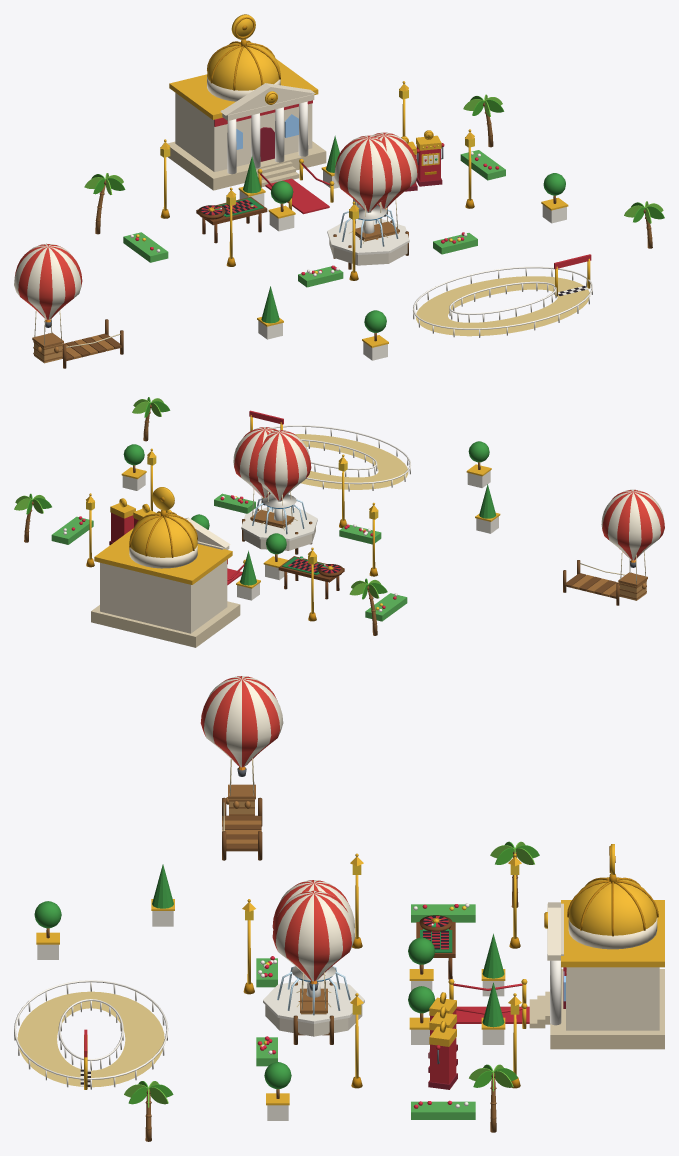
File: casino-jeu.glb
3 views of the same model, one above another, from view 1: azimuth 30°, elevation 25°; view 2: azimuth 150°, elevation 25°; view 3: azimuth 270°, elevation 25° (orthographic). The views are drawn at different scales.
Visible parts, largest first — view 1: piste, mur, ballon.002, ballon.001, coupole, soubassement, corniche, ballon, margelle, fronton.001, barriere.001, bassin (+9 smaller); view 2: mur, ballon.002, piste, ballon.001, corniche, soubassement, coupole, ballon, margelle, tambour, buis.003, buis.002 (+7 smaller); view 3: piste, mur, ballon.002, ballon, coupole, corniche, soubassement, margelle, tambour, buis.003, bassin, barriere.001 (+6 smaller).
Boxes of the visible parts, bbox=[...] form: piste: bbox=[415, 276, 590, 336]; mur: bbox=[175, 93, 312, 171]; ballon.002: bbox=[14, 243, 82, 319]; ballon.001: bbox=[334, 135, 392, 211]; coupole: bbox=[207, 42, 280, 90]; soubassement: bbox=[167, 141, 326, 190]; corniche: bbox=[169, 59, 318, 119]; ballon: bbox=[372, 132, 418, 208]; margelle: bbox=[327, 219, 409, 254]; fronton.001: bbox=[220, 83, 315, 115]; barriere.001: bbox=[413, 266, 592, 329]; bassin: bbox=[329, 240, 407, 265]; mur: bbox=[100, 560, 227, 633]; ballon.002: bbox=[601, 489, 664, 560]; piste: bbox=[294, 434, 408, 489]; ballon.001: bbox=[257, 430, 311, 500]; corniche: bbox=[94, 528, 232, 584]; soubassement: bbox=[91, 601, 240, 647]; coupole: bbox=[129, 512, 197, 557]; ballon: bbox=[233, 427, 276, 497]; margelle: bbox=[241, 507, 317, 540]; tambour: bbox=[129, 545, 197, 568]; buis.003: bbox=[51, 516, 93, 544]; buis.002: bbox=[365, 593, 407, 621]; piste: bbox=[17, 991, 164, 1087]; mur: bbox=[566, 967, 659, 1030]; ballon.002: bbox=[200, 676, 283, 767]; ballon: bbox=[272, 890, 355, 981]; coupole: bbox=[568, 877, 656, 935]; corniche: bbox=[561, 900, 664, 967]; soubassement: bbox=[550, 969, 664, 1049]; margelle: bbox=[263, 980, 364, 1023]; tambour: bbox=[568, 918, 657, 949]; buis.003: bbox=[411, 1101, 475, 1119]; bassin: bbox=[265, 1005, 362, 1036]; barriere.001: bbox=[14, 980, 168, 1079].
Bounding box in the file's own units: 23.36 × 5.55 × 18.12.
